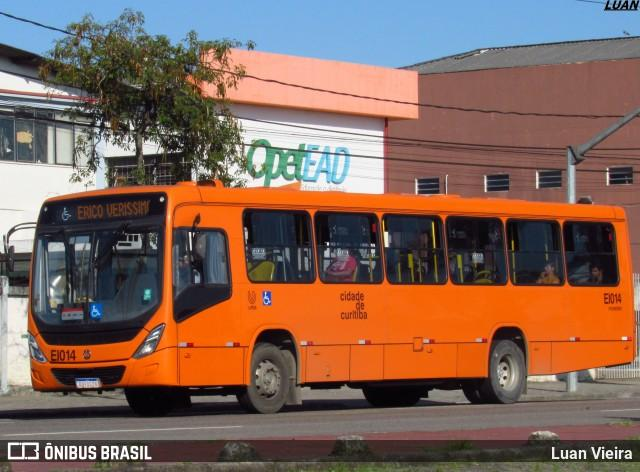ERICO VERISSIMO: (73, 195, 156, 222)
